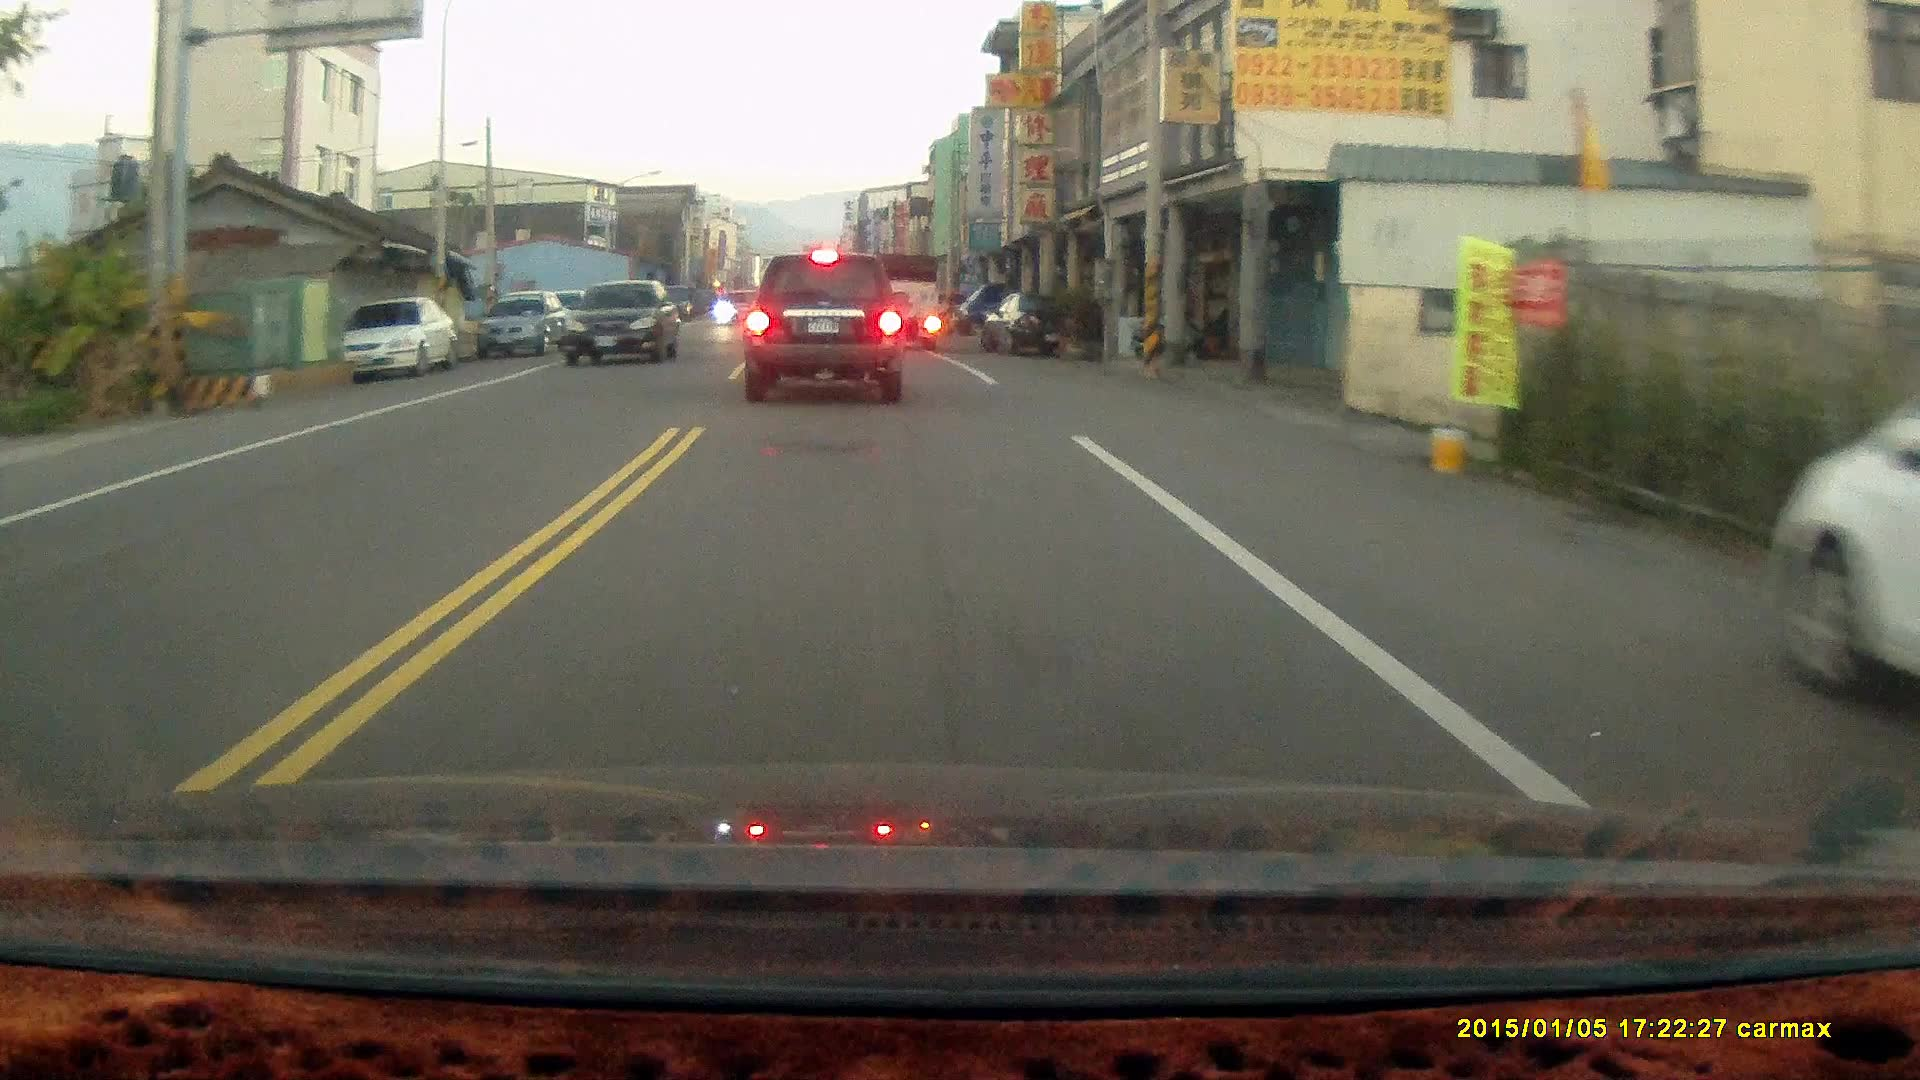vehicle: (1767, 309, 1920, 729), (746, 255, 910, 409), (570, 282, 682, 369), (342, 299, 462, 378), (866, 255, 945, 353), (483, 290, 574, 363)
